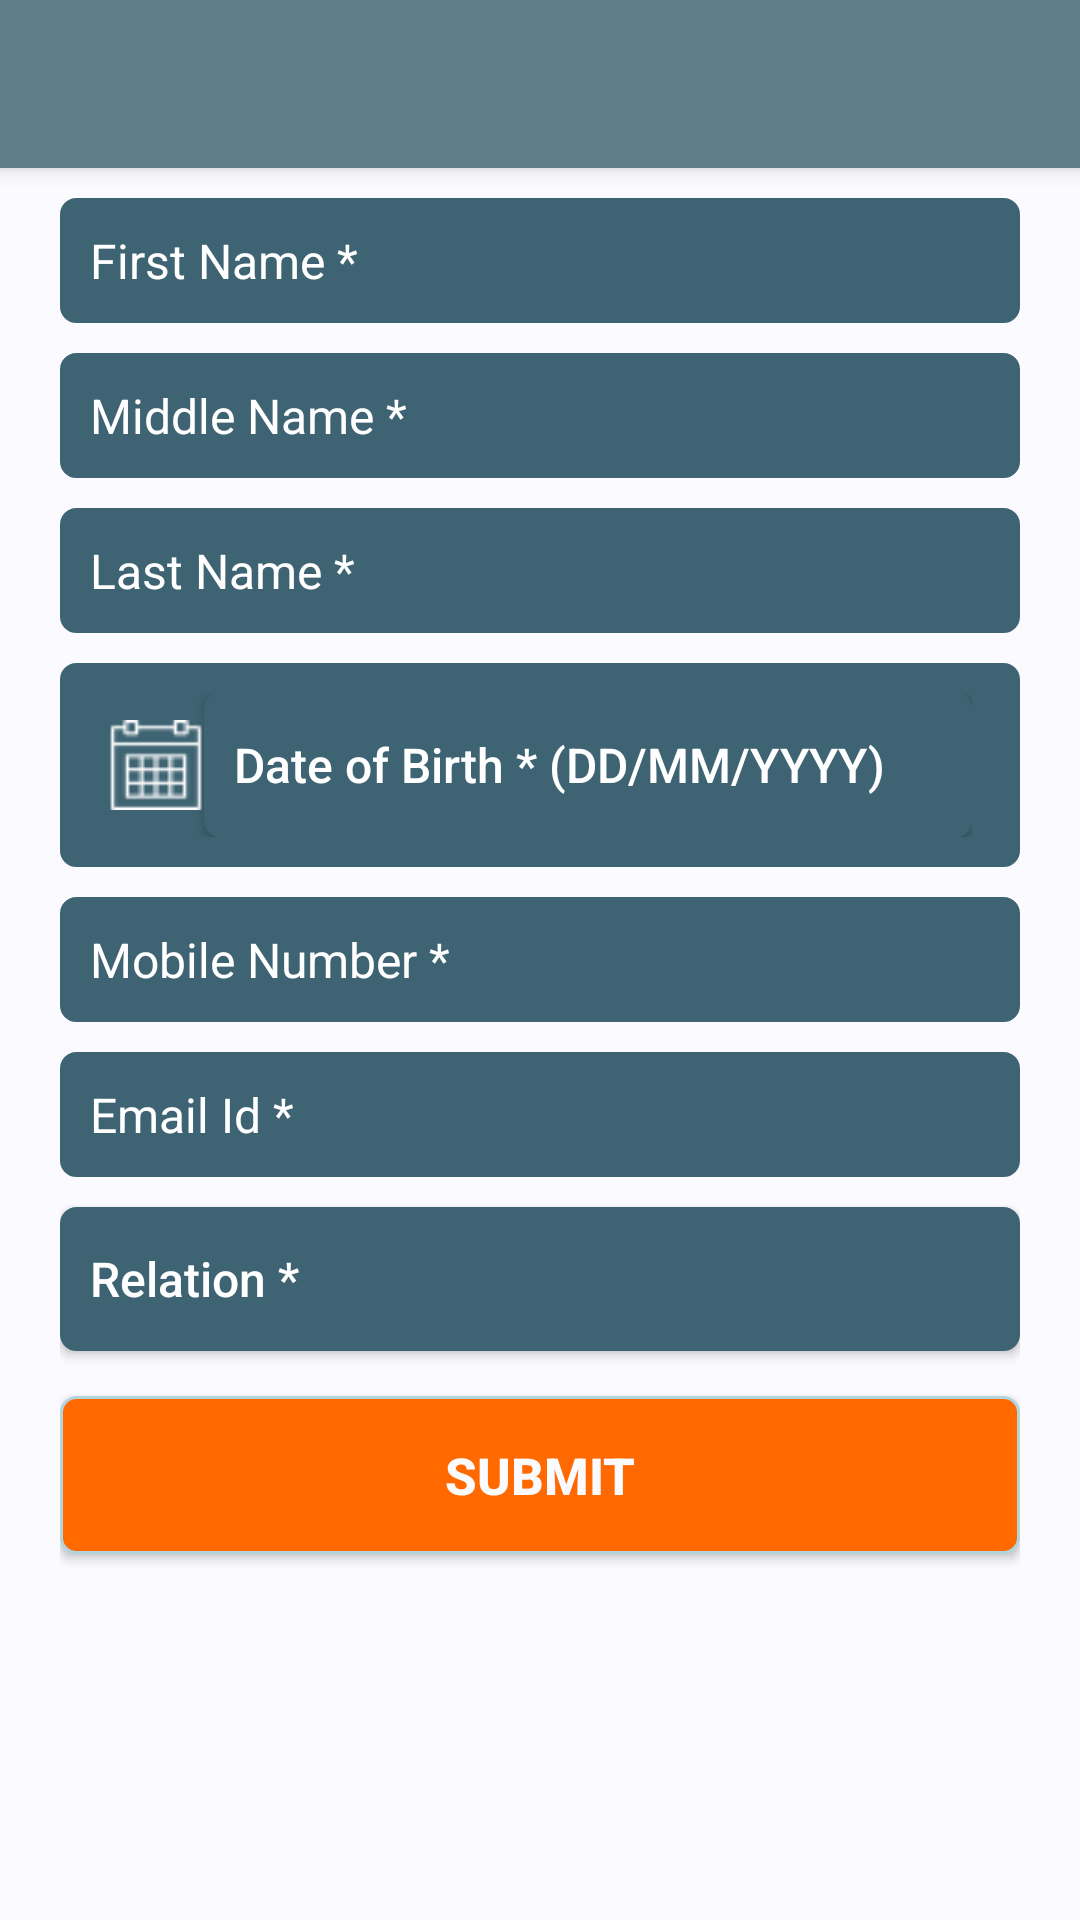

Icon click points for this 1080 × 1920 phone screenshot, format (x=x, y=y):
calendar: (x=156, y=765)
